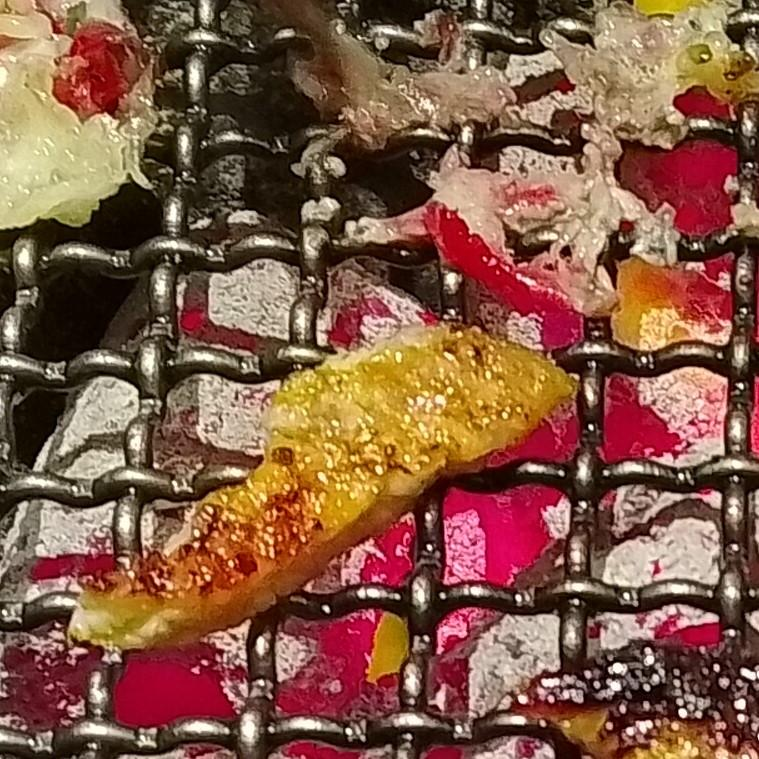Overcooked: (261, 0, 511, 161), (515, 644, 758, 747)
Undercooked: (415, 167, 633, 365), (0, 0, 158, 236)
Well-Cooked: (65, 328, 580, 655)
